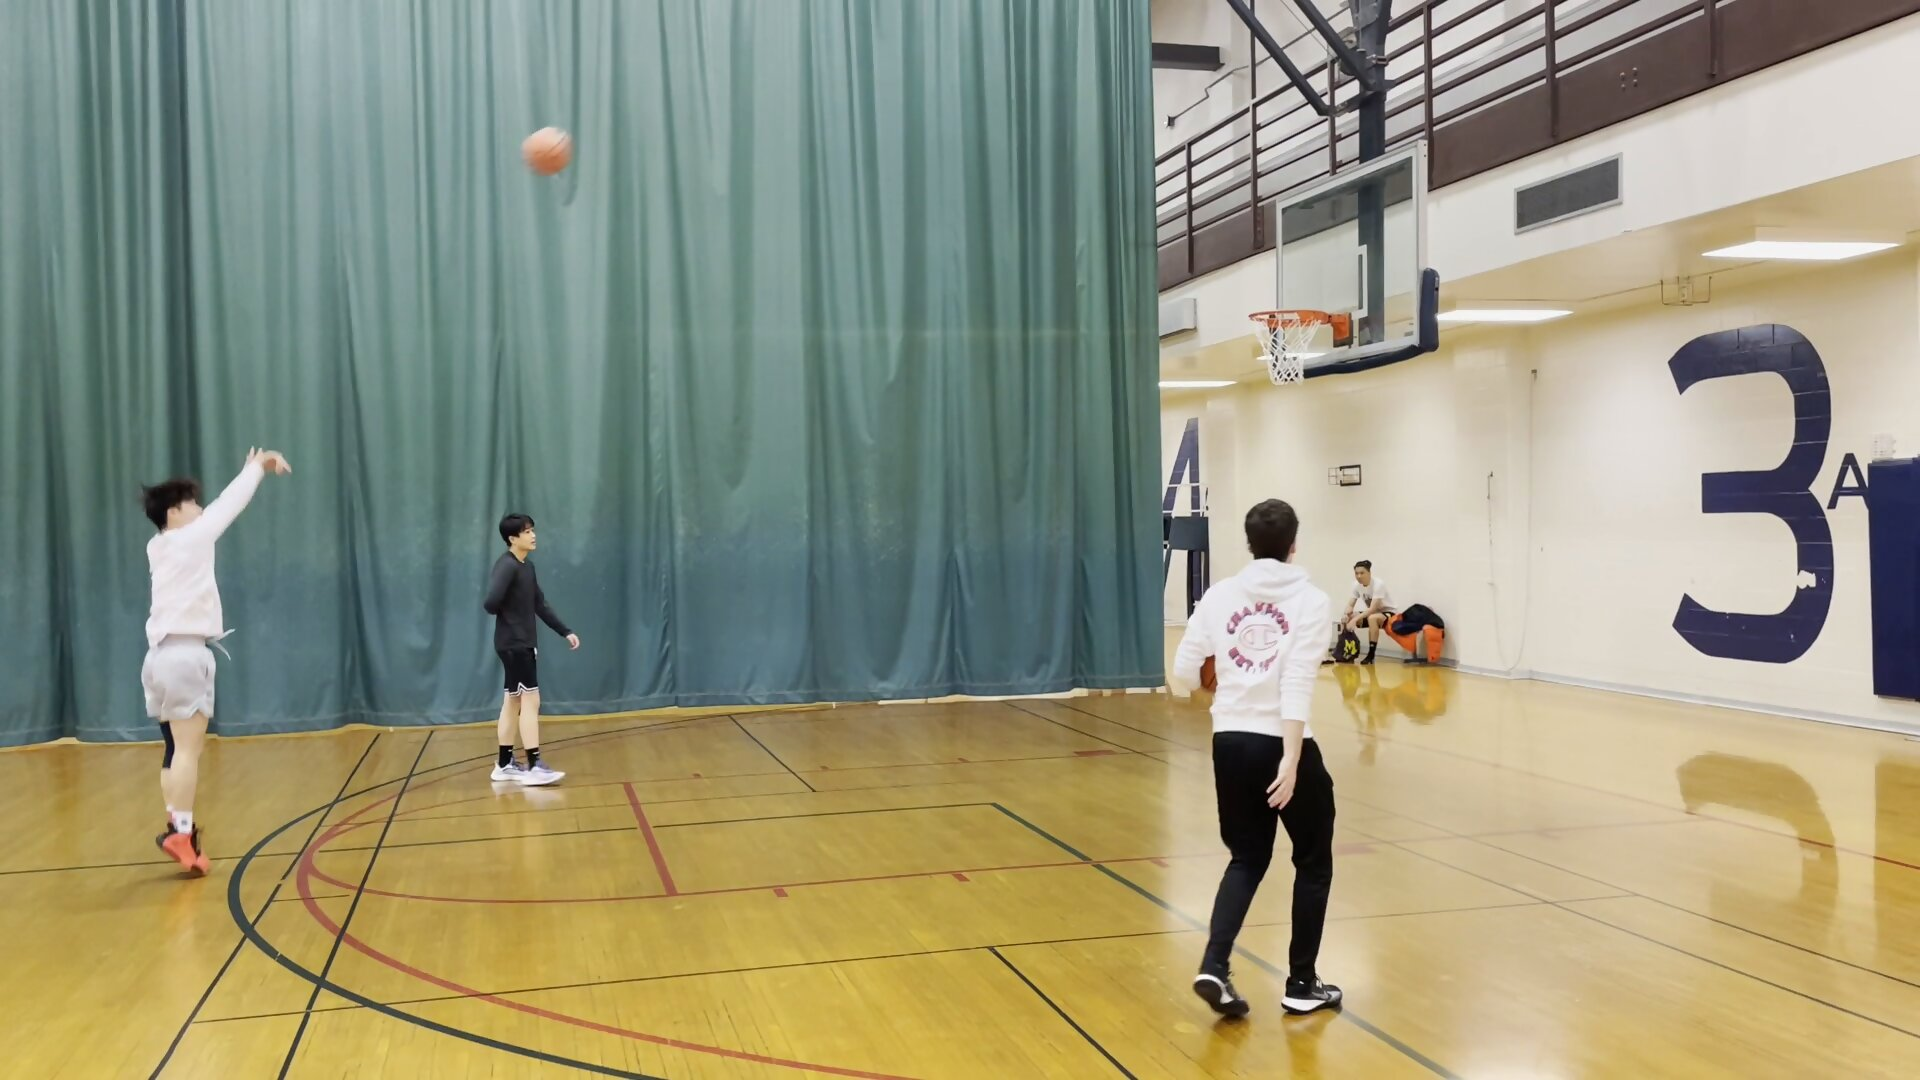ball: (517, 125, 583, 179)
net: (1257, 355, 1320, 395)
player: (1167, 495, 1373, 1021), (130, 443, 293, 883), (472, 511, 583, 791), (1336, 557, 1393, 662)
rim: (1241, 303, 1335, 334)
